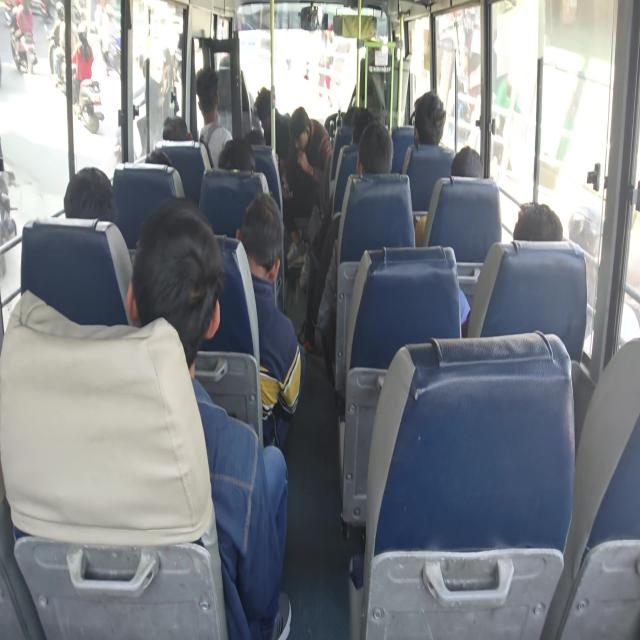person: (139, 224, 219, 353), (512, 180, 562, 258), (59, 162, 120, 225), (242, 205, 286, 288), (409, 89, 449, 154), (162, 112, 199, 156), (139, 138, 178, 177), (449, 148, 486, 188), (352, 32, 380, 76), (222, 142, 256, 178), (346, 99, 372, 146), (361, 137, 388, 180), (250, 87, 277, 128), (218, 43, 244, 82), (240, 122, 266, 156), (195, 69, 219, 105), (291, 116, 307, 156)
